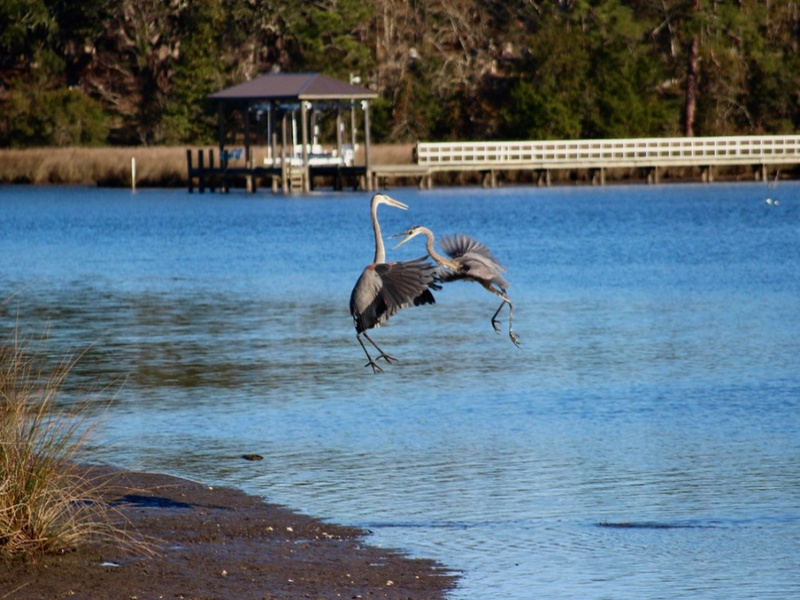heron: (395, 223, 524, 349), (345, 190, 416, 378)
